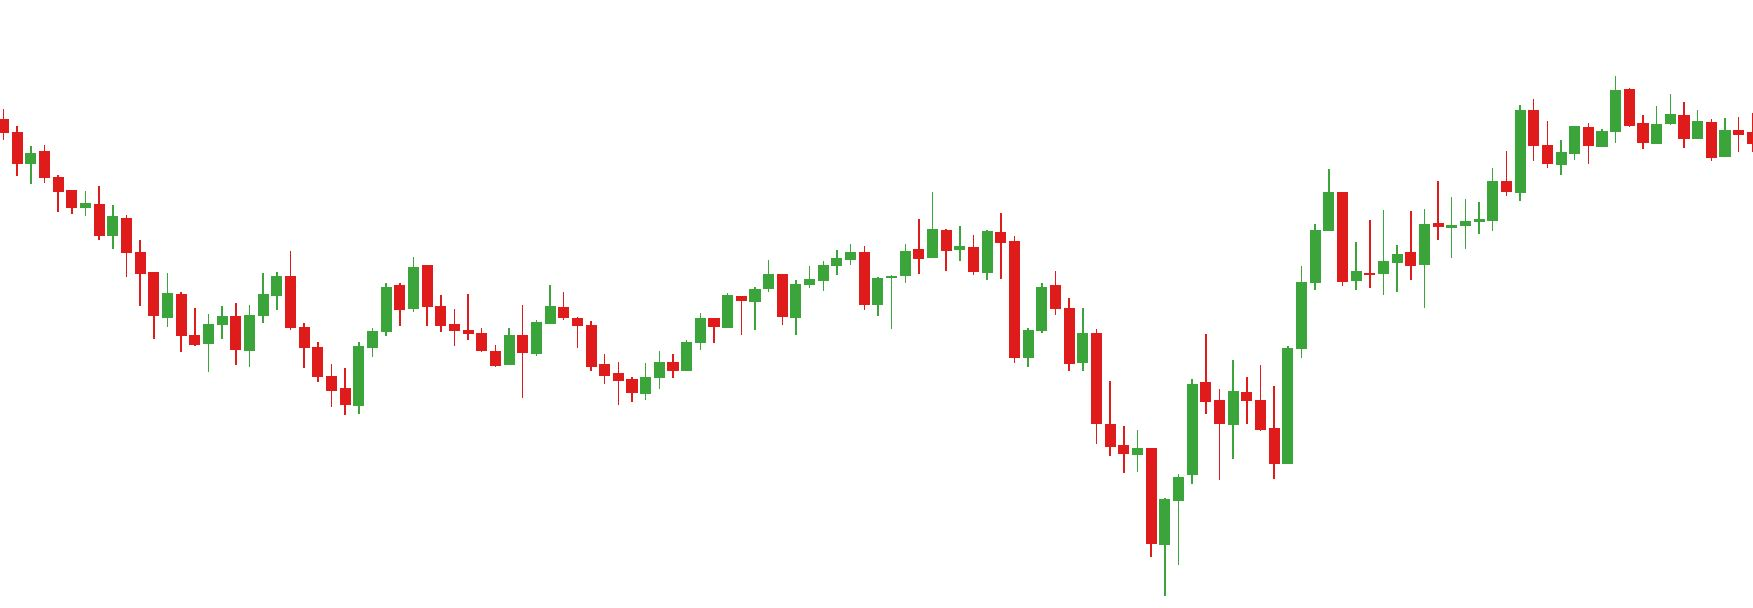buy: (514, 319, 653, 408)
